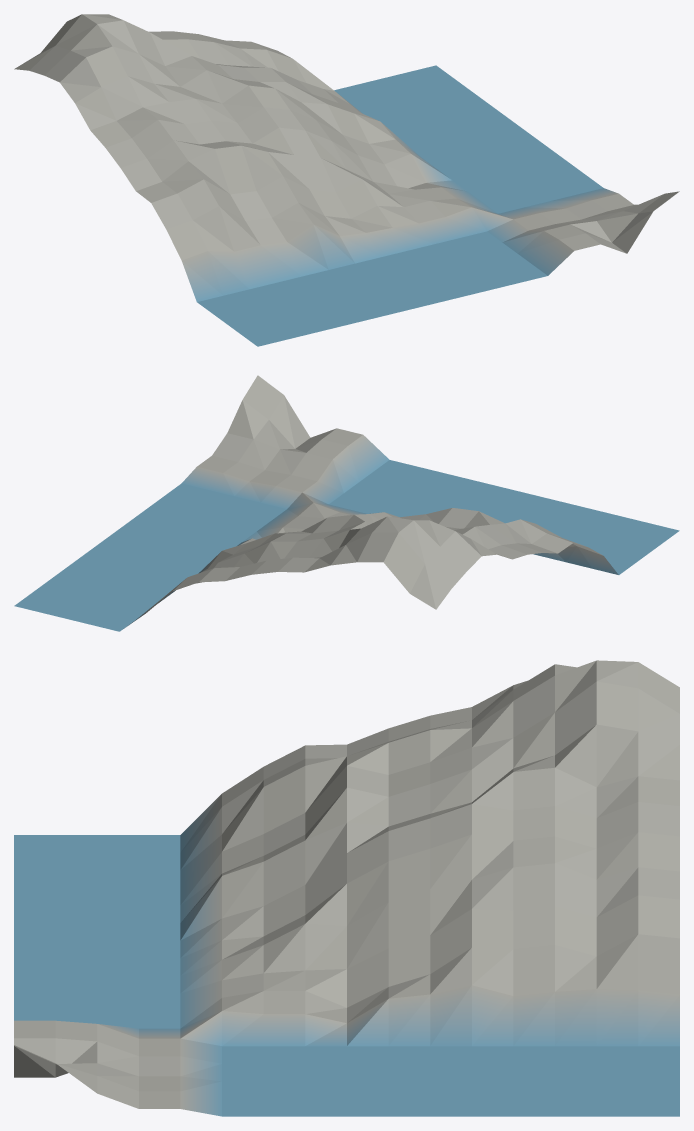
3 renders of one model, top to bottom at view 1: azimuth 30°, elevation 25°; view 2: azimuth 150°, elevation 25°; view 3: azimuth 270°, elevation 25°, orthographic. The views are drawn at different scales.
Size of the model in its own units: 32 by 11.13 by 32.
